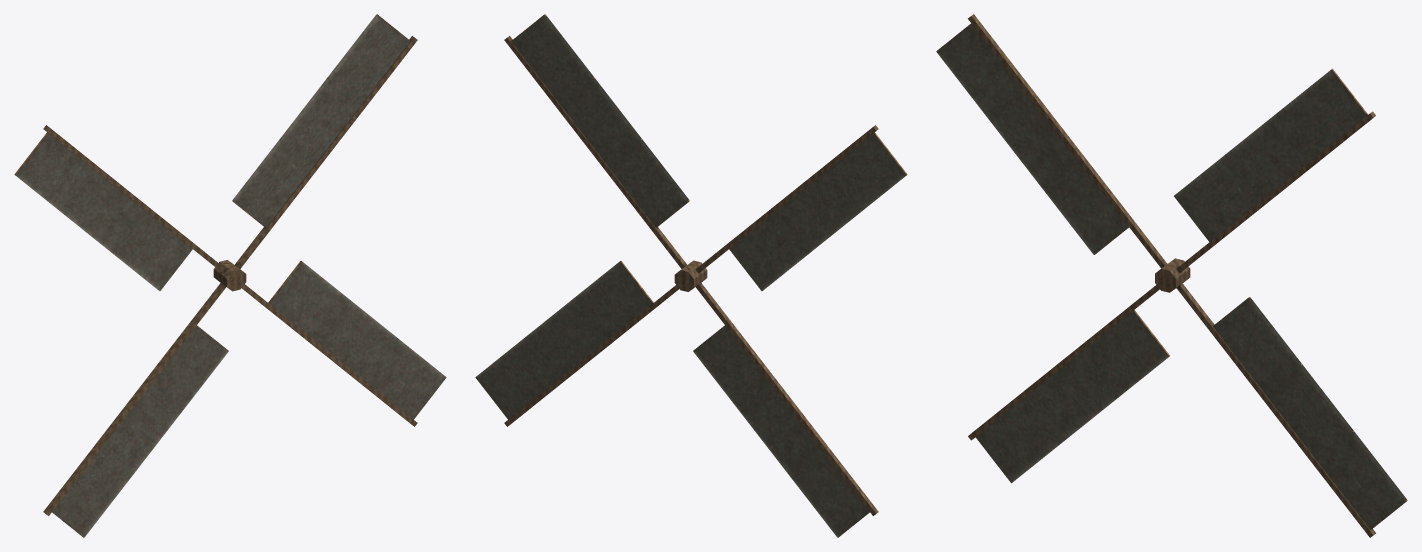
Rendered from SM_Windmill_Blades.fbx.
The picture shows the model from 3 angles, left to right: view 1: azimuth 30°, elevation 25°; view 2: azimuth 150°, elevation 25°; view 3: azimuth 330°, elevation 25°; orthographic projection. The views are drawn at different scales.
Parts seen in each view (by area): view 1: SM_Windmill_Blades; view 2: SM_Windmill_Blades; view 3: SM_Windmill_Blades.
Boxes of the visible parts, left/top/right/bottom form: SM_Windmill_Blades: left=14, top=14, right=446, bottom=537; SM_Windmill_Blades: left=475, top=14, right=907, bottom=537; SM_Windmill_Blades: left=936, top=14, right=1407, bottom=537.
Size of the model in its own units: 2481 by 2481 by 130.
Materials: 1 (1 with a texture image).
